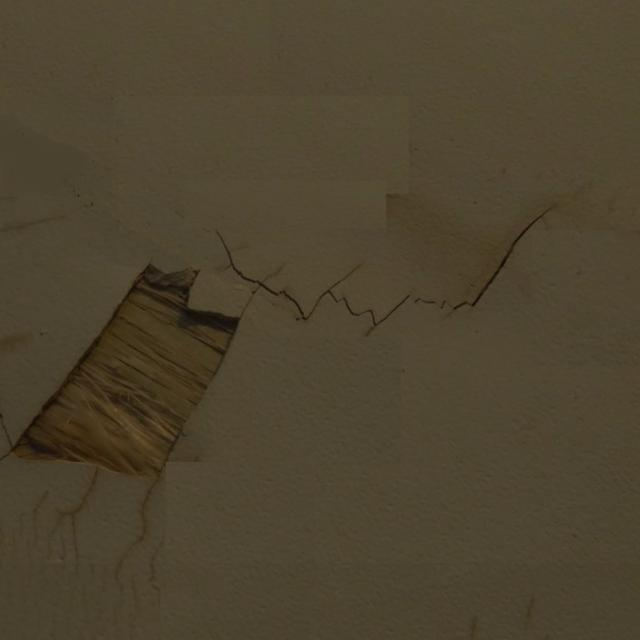crack: (208, 212, 554, 320)
surface_peeling: (9, 262, 246, 480)
